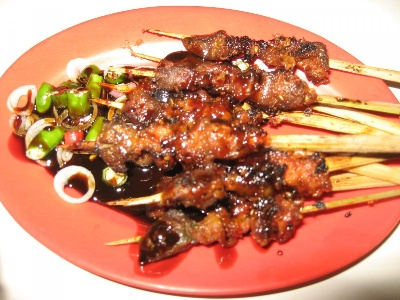sate: (121, 29, 400, 239)
